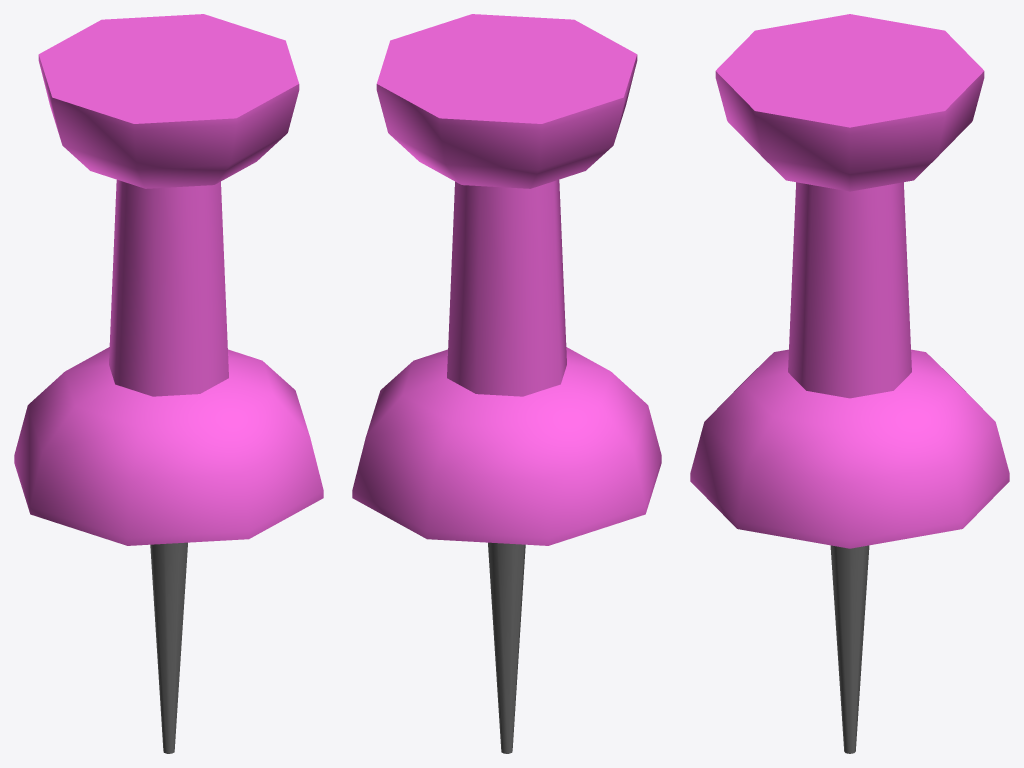
File: team repression.fbx
The picture shows the model from 3 angles, left to right: view 1: azimuth 30°, elevation 25°; view 2: azimuth 150°, elevation 25°; view 3: azimuth 270°, elevation 25°; orthographic projection.
Visible parts, largest first — view 1: pin; view 2: pin; view 3: pin.
Part boxes in pixels (left/top/right/bottom): pin: left=14, top=14, right=323, bottom=753; pin: left=352, top=14, right=661, bottom=753; pin: left=690, top=14, right=1009, bottom=753.
Size of the model in its own units: 10.1 by 23.76 by 10.1.
1 material, 1 textured.
